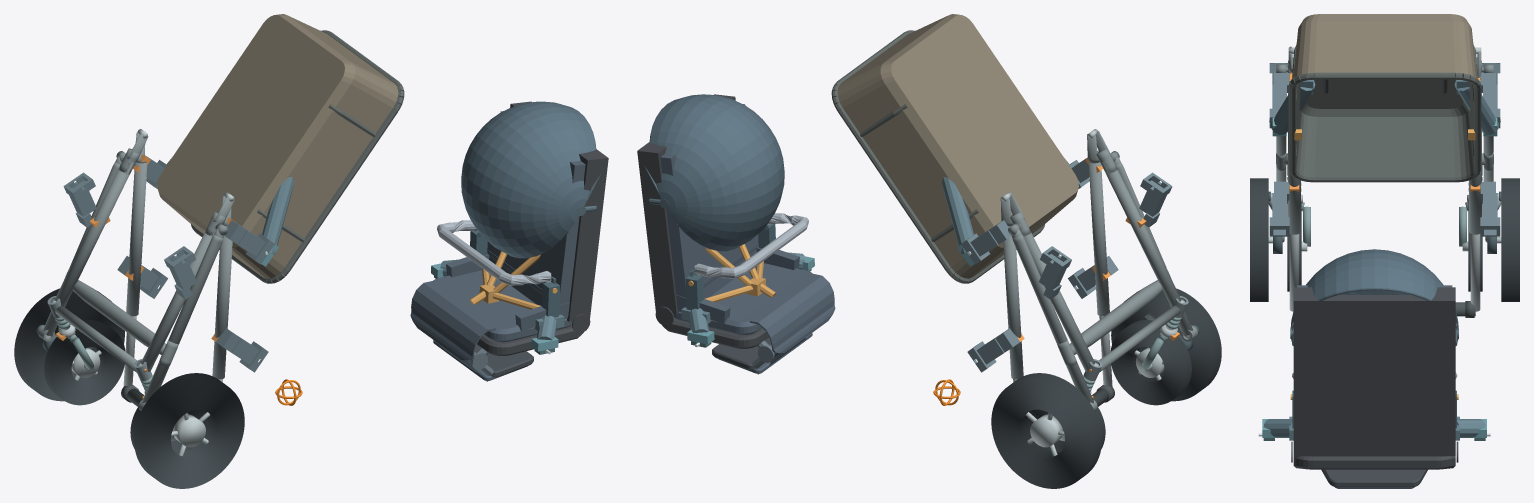
File: D14_w550_state3_wheel_M.glb
The picture shows the model from 3 angles, left to right: view 1: azimuth 30°, elevation 25°; view 2: azimuth 150°, elevation 25°; view 3: azimuth 270°, elevation 25°; orthographic projection. The views are drawn at different scales.
Visible parts, largest first — view 1: D14_Upper, D14_Lower, RL_tire.004, FR_tire.004, RR_tire.004, main_upper_1.005, main_lower_1.005, V46_rear_leg_-1.005, main_upper_-1.005, V46_rearbar.005, main_lower_-1.005, D14_Lower_Mount_M (+9 smaller); view 2: D14_Upper, D14_Lower, RR_tire.004, FL_tire.004, RL_tire.004, main_upper_-1.005, main_lower_-1.005, V46_rear_leg_1.005, main_upper_1.005, V46_rearbar.005, main_lower_1.005, D14_Lower_Mount_M (+9 smaller); view 3: D14_Upper, D14_Lower, RL_tire.004, RR_tire.004, D14_Lower_Mount_M, D14_Upper_Mount_H, Universal_Cabin_Receiver_H_1, Universal_Cabin_Receiver_H_-1, handle_slider_1.004, main_upper_1.005, main_upper_-1.005, handle_slider_-1.004 (+8 smaller).
Part boxes in pixels (x1=…): D14_Upper: x1=410, y1=101, x2=608, y2=381; D14_Lower: x1=157, y1=14, x2=404, y2=283; RL_tire.004: x1=134, y1=373, x2=244, y2=488; FR_tire.004: x1=44, y1=320, x2=125, y2=405; RR_tire.004: x1=14, y1=288, x2=124, y2=401; main_upper_1.005: x1=126, y1=162, x2=147, y2=316; main_lower_1.005: x1=54, y1=162, x2=133, y2=307; V46_rear_leg_-1.005: x1=142, y1=234, x2=223, y2=403; main_upper_-1.005: x1=212, y1=226, x2=232, y2=379; V46_rearbar.005: x1=73, y1=280, x2=166, y2=354; main_lower_-1.005: x1=141, y1=231, x2=215, y2=371; D14_Lower_Mount_M: x1=166, y1=159, x2=293, y2=266; D14_Upper: x1=637, y1=94, x2=835, y2=374; D14_Lower: x1=831, y1=14, x2=1078, y2=283; RR_tire.004: x1=991, y1=373, x2=1101, y2=488; FL_tire.004: x1=1110, y1=320, x2=1191, y2=405; RL_tire.004: x1=1111, y1=288, x2=1221, y2=401; main_upper_-1.005: x1=1089, y1=162, x2=1109, y2=316; main_lower_-1.005: x1=1102, y1=162, x2=1181, y2=306; V46_rear_leg_1.005: x1=1012, y1=234, x2=1093, y2=403; main_upper_1.005: x1=1003, y1=226, x2=1023, y2=379; V46_rearbar.005: x1=1070, y1=280, x2=1162, y2=354; main_lower_1.005: x1=1021, y1=232, x2=1094, y2=371; D14_Lower_Mount_M: x1=942, y1=158, x2=1069, y2=266; D14_Upper: x1=1290, y1=249, x2=1458, y2=488; D14_Lower: x1=1288, y1=14, x2=1481, y2=182; RL_tire.004: x1=1250, y1=178, x2=1268, y2=301; RR_tire.004: x1=1501, y1=178, x2=1519, y2=301; D14_Lower_Mount_M: x1=1269, y1=80, x2=1500, y2=136; D14_Upper_Mount_H: x1=1258, y1=416, x2=1490, y2=440; Universal_Cabin_Receiver_H_1: x1=1480, y1=181, x2=1500, y2=236; Universal_Cabin_Receiver_H_-1: x1=1269, y1=181, x2=1289, y2=236; handle_slider_1.004: x1=1470, y1=234, x2=1480, y2=311; main_upper_1.005: x1=1469, y1=80, x2=1481, y2=234; main_upper_-1.005: x1=1288, y1=80, x2=1300, y2=234; handle_slider_-1.004: x1=1289, y1=234, x2=1299, y2=311.
Size of the model in its own units: 1.46 by 1.02 by 0.656.
